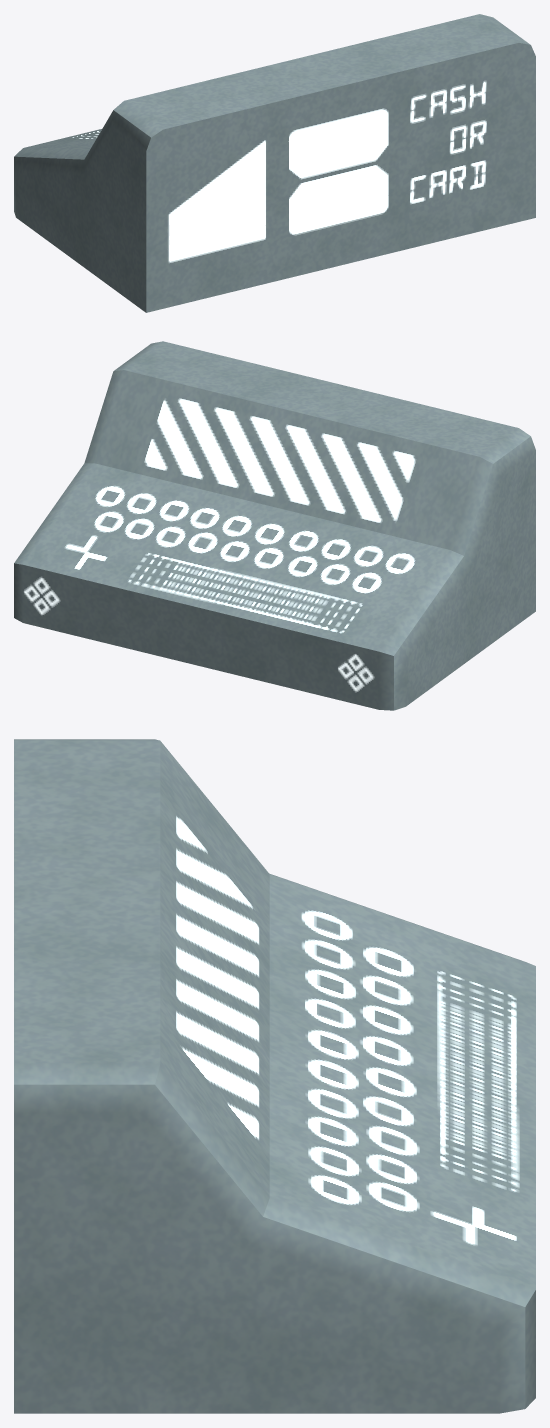
File: MMM_Cafe_Cash_Register.fbx
3 renders of one model, top to bottom at view 1: azimuth 30°, elevation 25°; view 2: azimuth 150°, elevation 25°; view 3: azimuth 270°, elevation 25°, orthographic. The views are drawn at different scales.
Visible parts, largest first — view 1: Cash_Register; view 2: Cash_Register; view 3: Cash_Register.
Boxes of the visible parts, x1,y1,x2,y2 form: Cash_Register: [14, 14, 535, 312]; Cash_Register: [14, 341, 535, 710]; Cash_Register: [14, 739, 535, 1413].
Size of the model in its own units: 116 by 51.17 by 72.47.
Materials: 1 (1 with a texture image).
